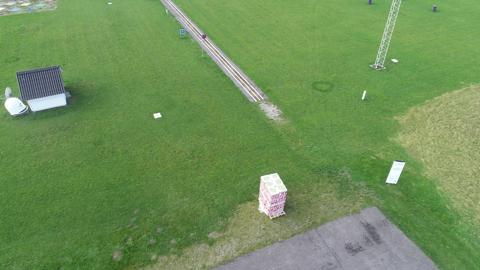RockwoolPallet: (257, 172, 289, 218)
